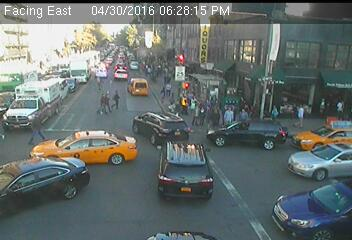neg: (30, 54, 51, 81), (48, 61, 64, 82), (72, 73, 86, 92), (49, 41, 62, 58)
pos: (22, 109, 51, 148), (291, 104, 311, 130), (108, 88, 126, 112), (266, 101, 282, 122)
